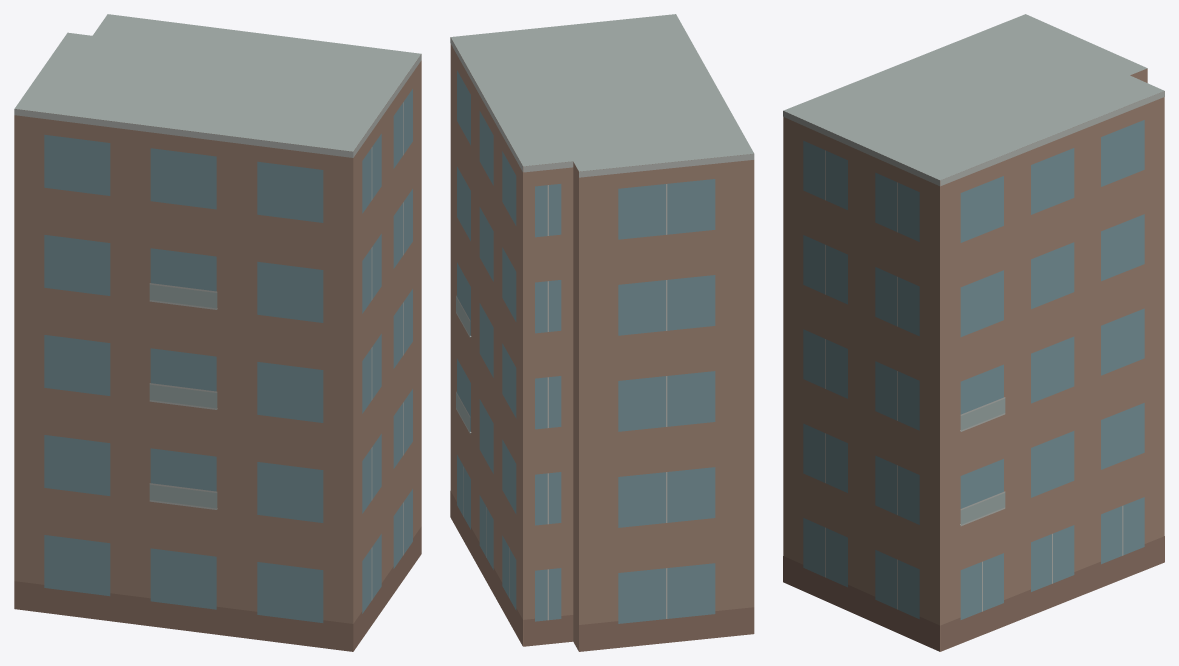
The model's file is survey-upis-32891640.glb.
3 renders of one model, left to right at view 1: azimuth 30°, elevation 25°; view 2: azimuth 150°, elevation 25°; view 3: azimuth 270°, elevation 25°, orthographic. The views are drawn at different scales.
Visible parts, largest first — view 1: survey-upis-32891640.tmp; view 2: survey-upis-32891640.tmp; view 3: survey-upis-32891640.tmp.
Part boxes in pixels (bbox=[...]): survey-upis-32891640.tmp: bbox=[14, 14, 421, 651]; survey-upis-32891640.tmp: bbox=[450, 14, 754, 651]; survey-upis-32891640.tmp: bbox=[783, 14, 1164, 651].
Bounding box in the file's own units: 14.5 × 19.15 × 14.05.
